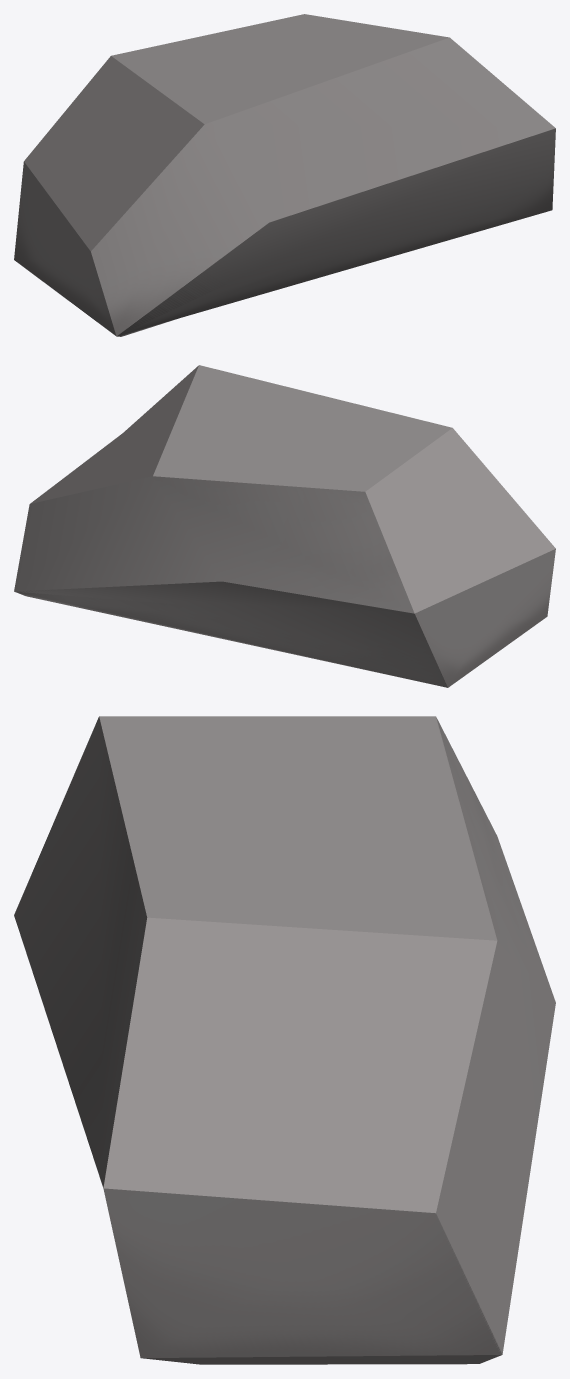
The model's file is Rock_Pickup.fbx.
3 renders of one model, top to bottom at view 1: azimuth 30°, elevation 25°; view 2: azimuth 150°, elevation 25°; view 3: azimuth 270°, elevation 25°, orthographic. The views are drawn at different scales.
Visible parts, largest first — view 1: BigRock; view 2: BigRock; view 3: BigRock.
Boxes of the visible parts, x1,y1,x2,y2 form: BigRock: (14, 14, 555, 336); BigRock: (14, 365, 555, 687); BigRock: (14, 716, 555, 1364).
Bounding box in the file's own units: 240 × 99.88 × 133.
Materials: 1 (1 with a texture image).
